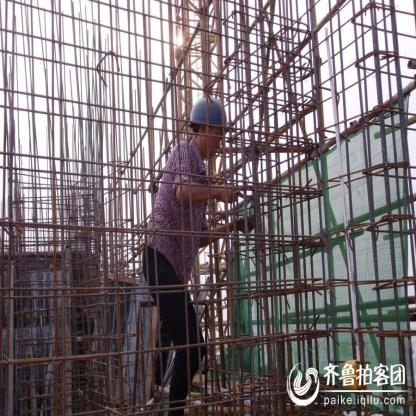capacete: (188, 93, 232, 163)
sem_colete_refletivo: (144, 136, 209, 291)
